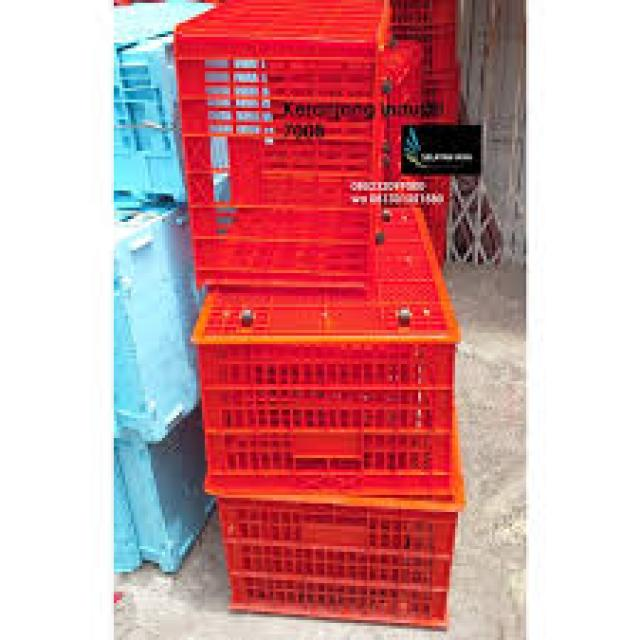basket: (213, 494, 460, 630)
